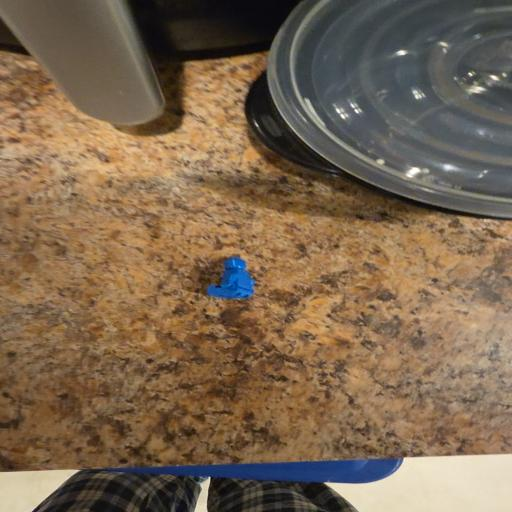Blue: (207, 258, 254, 299)
